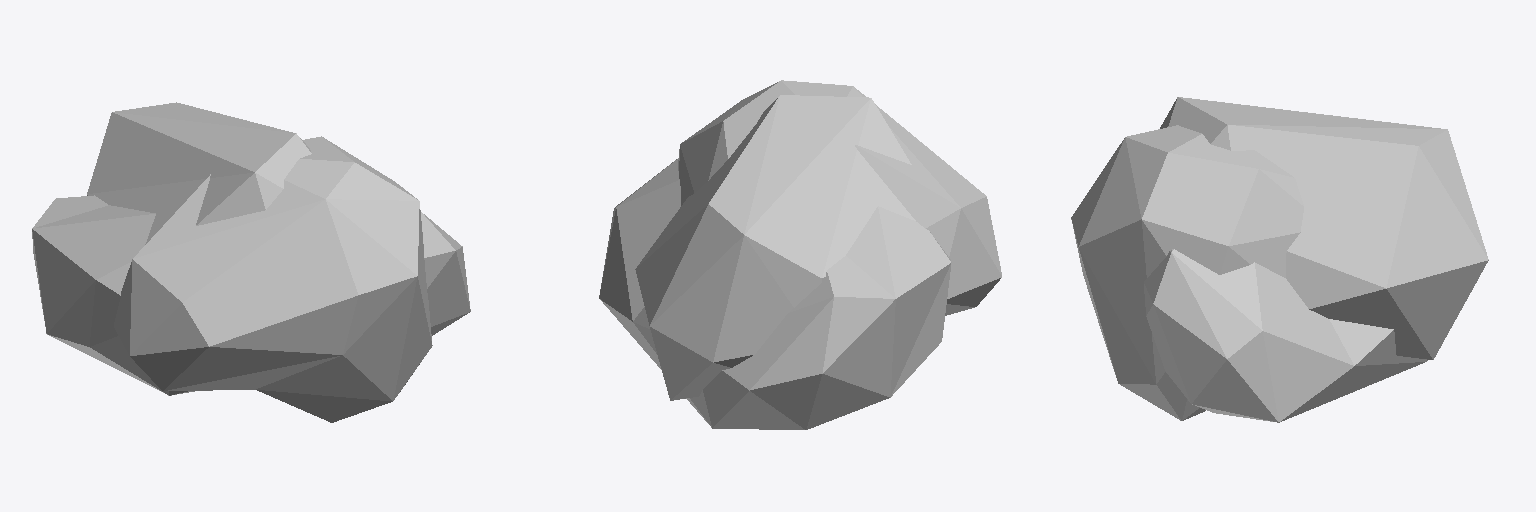
Rendered from ore.obj.
3 views of the same model, side by side, from view 1: azimuth 30°, elevation 25°; view 2: azimuth 150°, elevation 25°; view 3: azimuth 270°, elevation 25° (orthographic).
Parts seen in each view (by area): view 1: Rock_11.001; view 2: Rock_11.001; view 3: Rock_11.001.
Boxes of the visible parts, <box> form: Rock_11.001: <box>32,102,470,422</box>; Rock_11.001: <box>599,80,1001,429</box>; Rock_11.001: <box>1071,97,1488,422</box>.
Size of the model in its own units: 0.4016 by 0.2943 by 0.4028.